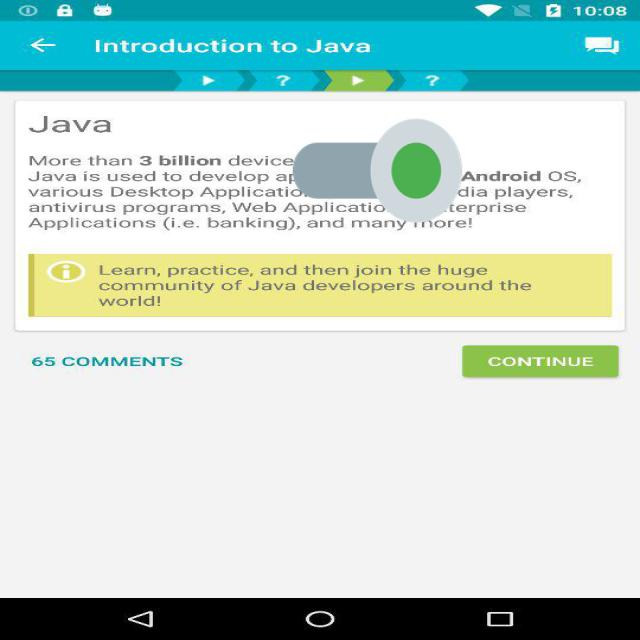social proof: (293, 75, 462, 266)
